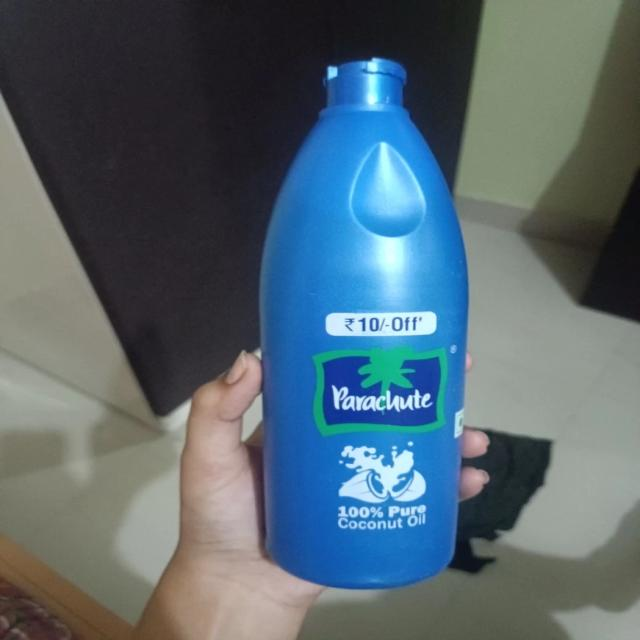parachute_oil: (240, 51, 488, 600)
